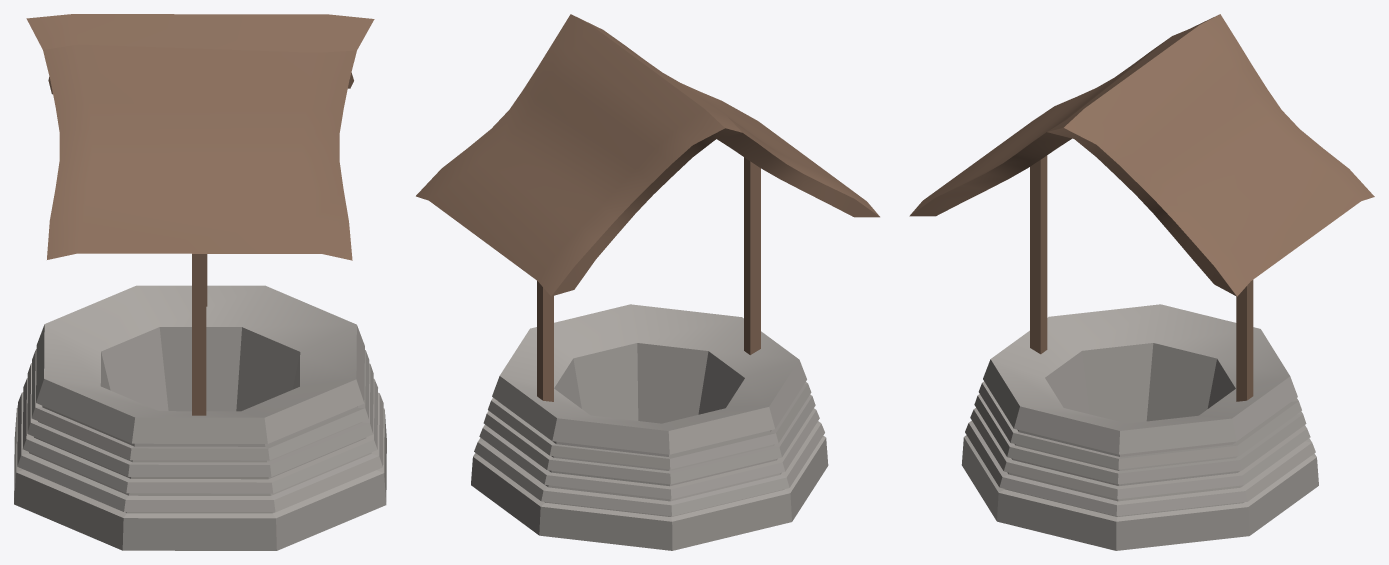
File: DY_wishpit.fbx
The picture shows the model from 3 angles, left to right: view 1: azimuth 30°, elevation 25°; view 2: azimuth 150°, elevation 25°; view 3: azimuth 270°, elevation 25°; orthographic projection. The views are drawn at different scales.
Visible parts, largest first — view 1: Wishpit; view 2: Wishpit; view 3: Wishpit.
Boxes of the visible parts, <box> form: Wishpit: <box>14,14,386,550</box>; Wishpit: <box>416,14,879,550</box>; Wishpit: <box>909,14,1374,550</box>.
Bounding box in the file's own units: 10.85 × 11.45 × 11.82.
